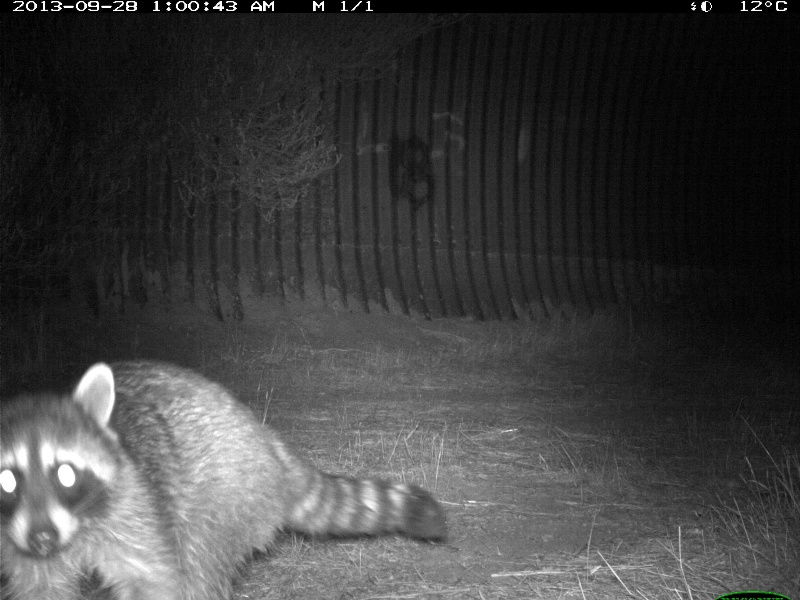raccoon: (2, 353, 454, 599)
